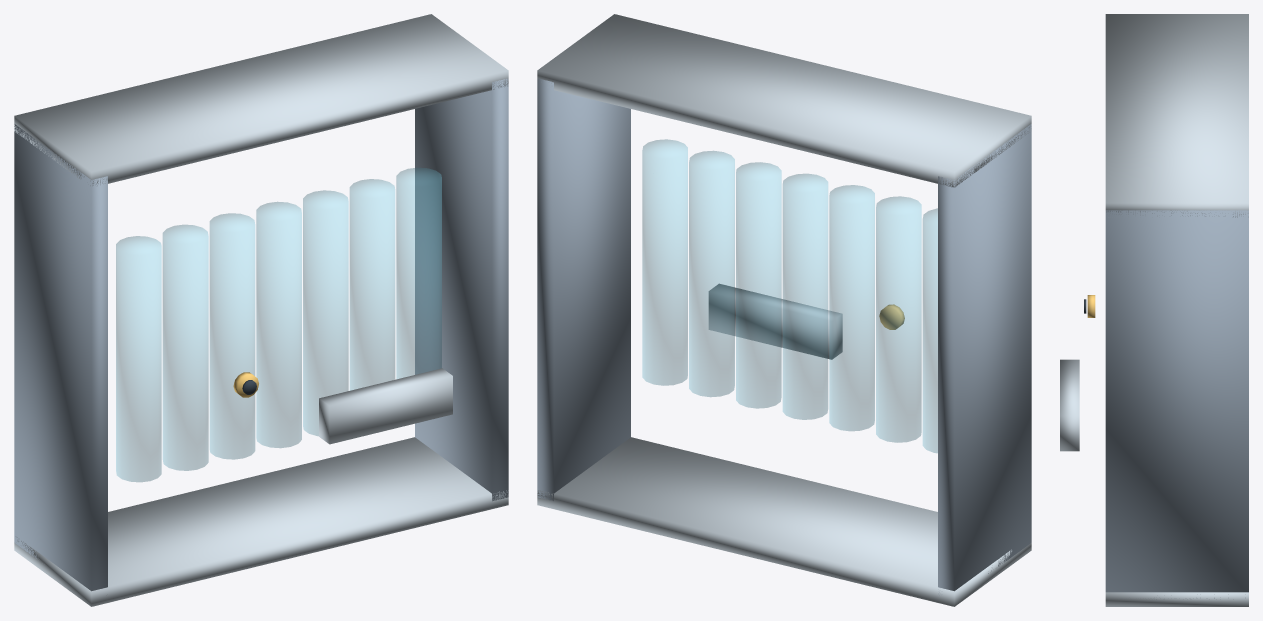
The model's file is 54_L88_RecoveredWaterFiltrationRack.glb.
The picture shows the model from 3 angles, left to right: view 1: azimuth 30°, elevation 25°; view 2: azimuth 150°, elevation 25°; view 3: azimuth 270°, elevation 25°; orthographic projection. The views are drawn at different scales.
Visible parts, largest first — view 1: L87_RecoveredWaterFiltrationR_Part_0001, L87_RecoveredWaterFiltrationR_Part_0000, L87_RecoveredWaterFiltrationR_Part_0002, L87_RecoveredWaterFiltrationR_Part_0003; view 2: L87_RecoveredWaterFiltrationR_Part_0000, L87_RecoveredWaterFiltrationR_Part_0001, L87_RecoveredWaterFiltrationR_Part_0002, L87_RecoveredWaterFiltrationR_Part_0003; view 3: L87_RecoveredWaterFiltrationR_Part_0000, L87_RecoveredWaterFiltrationR_Part_0001, L87_RecoveredWaterFiltrationR_Part_0003.
Part boxes in pixels (box(x1,y1,x2,y2)): L87_RecoveredWaterFiltrationR_Part_0001: box(14, 14, 508, 606); L87_RecoveredWaterFiltrationR_Part_0000: box(14, 78, 508, 591); L87_RecoveredWaterFiltrationR_Part_0002: box(116, 168, 441, 481); L87_RecoveredWaterFiltrationR_Part_0003: box(319, 368, 452, 444); L87_RecoveredWaterFiltrationR_Part_0000: box(537, 78, 1031, 595); L87_RecoveredWaterFiltrationR_Part_0001: box(537, 14, 1031, 606); L87_RecoveredWaterFiltrationR_Part_0002: box(642, 139, 937, 452); L87_RecoveredWaterFiltrationR_Part_0003: box(708, 283, 842, 359); L87_RecoveredWaterFiltrationR_Part_0000: box(1105, 210, 1248, 599); L87_RecoveredWaterFiltrationR_Part_0001: box(1105, 14, 1248, 606); L87_RecoveredWaterFiltrationR_Part_0003: box(1060, 359, 1079, 451).
Size of the model in its own units: 2.5 by 2.49 by 1.05.
